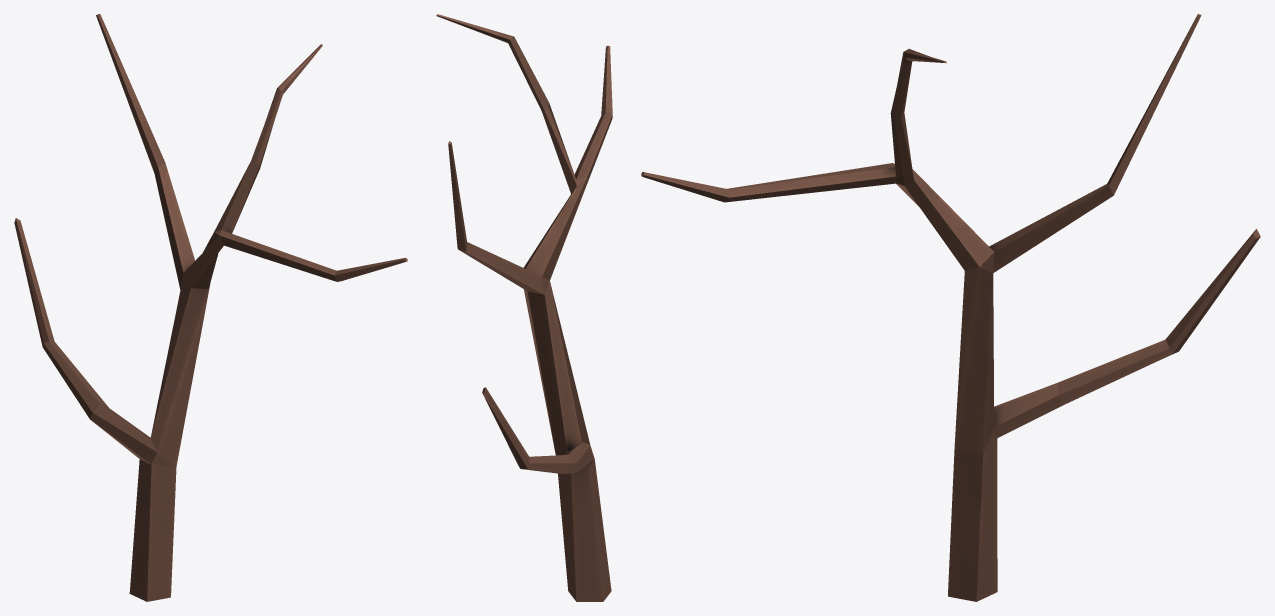
Rendered from Tree_12.fbx.
3 renders of one model, left to right at view 1: azimuth 30°, elevation 25°; view 2: azimuth 150°, elevation 25°; view 3: azimuth 270°, elevation 25°, orthographic. The views are drawn at different scales.
Visible parts, largest first — view 1: Tree_12; view 2: Tree_12; view 3: Tree_12.
Part boxes in pixels (box(x1,y1,x2,y2)): Tree_12: box(14, 14, 407, 601); Tree_12: box(436, 14, 612, 601); Tree_12: box(641, 14, 1260, 601).
Size of the model in its own units: 52.93 by 142 by 128.
